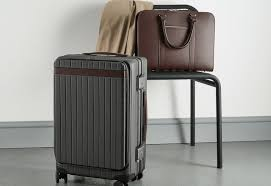suitcase: (52, 51, 150, 186)
